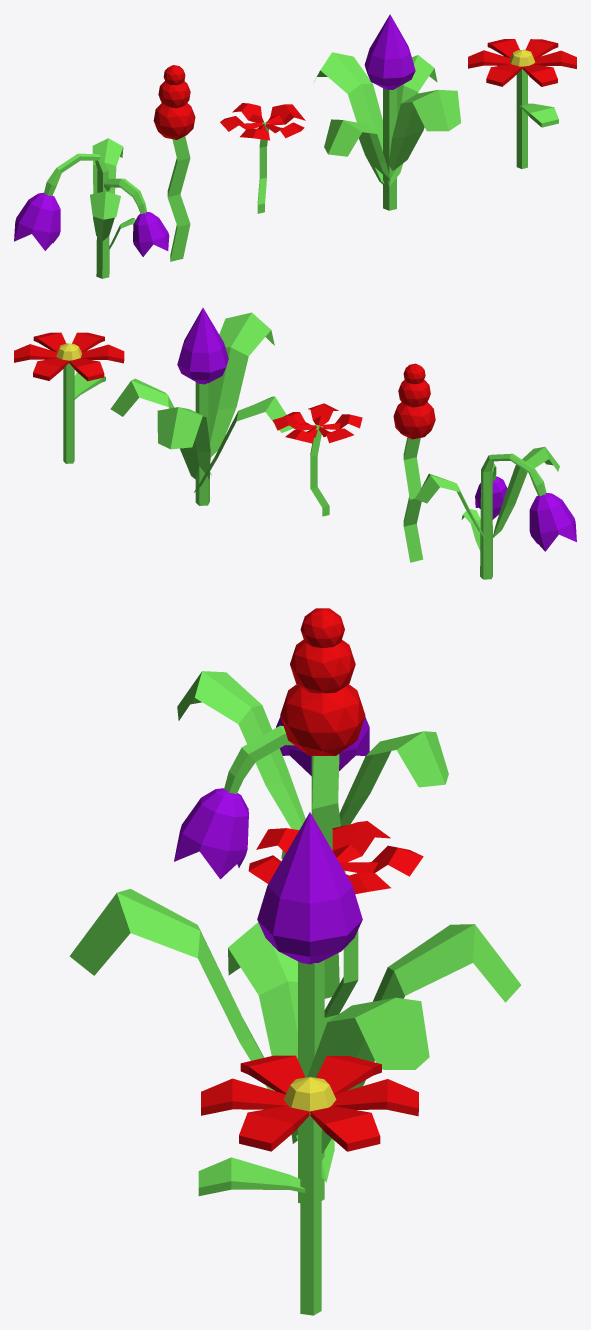
The model's file is Цветы.fbx.
The picture shows the model from 3 angles, top to bottom: view 1: azimuth 30°, elevation 25°; view 2: azimuth 150°, elevation 25°; view 3: azimuth 270°, elevation 25°; orthographic projection. The views are drawn at different scales.
Parts seen in each view (by area): view 1: Цветок4, Цветок5, Цветок3, Цветок2, Цветок1; view 2: Цветок4, Цветок5, Цветок3, Цветок2, Цветок1; view 3: Цветок4, Цветок3, Цветок5, Цветок2, Цветок1.
Part boxes in pixels (x1,y1,x2,y2): Цветок4: (317,14,461,210); Цветок5: (14,138,169,278); Цветок3: (468,39,576,168); Цветок2: (153,65,195,261); Цветок1: (220,103,305,213); Цветок4: (110,308,293,505); Цветок5: (415,446,576,579); Цветок3: (14,332,124,463); Цветок2: (393,363,435,562); Цветок1: (272,403,362,516); Цветок4: (69,812,521,1202); Цветок3: (198,1055,418,1315); Цветок5: (174,671,448,879); Цветок2: (280,608,365,998); Цветок1: (248,821,423,1028).
Bounding box in the file's own units: 127 × 43.04 × 45.14.
